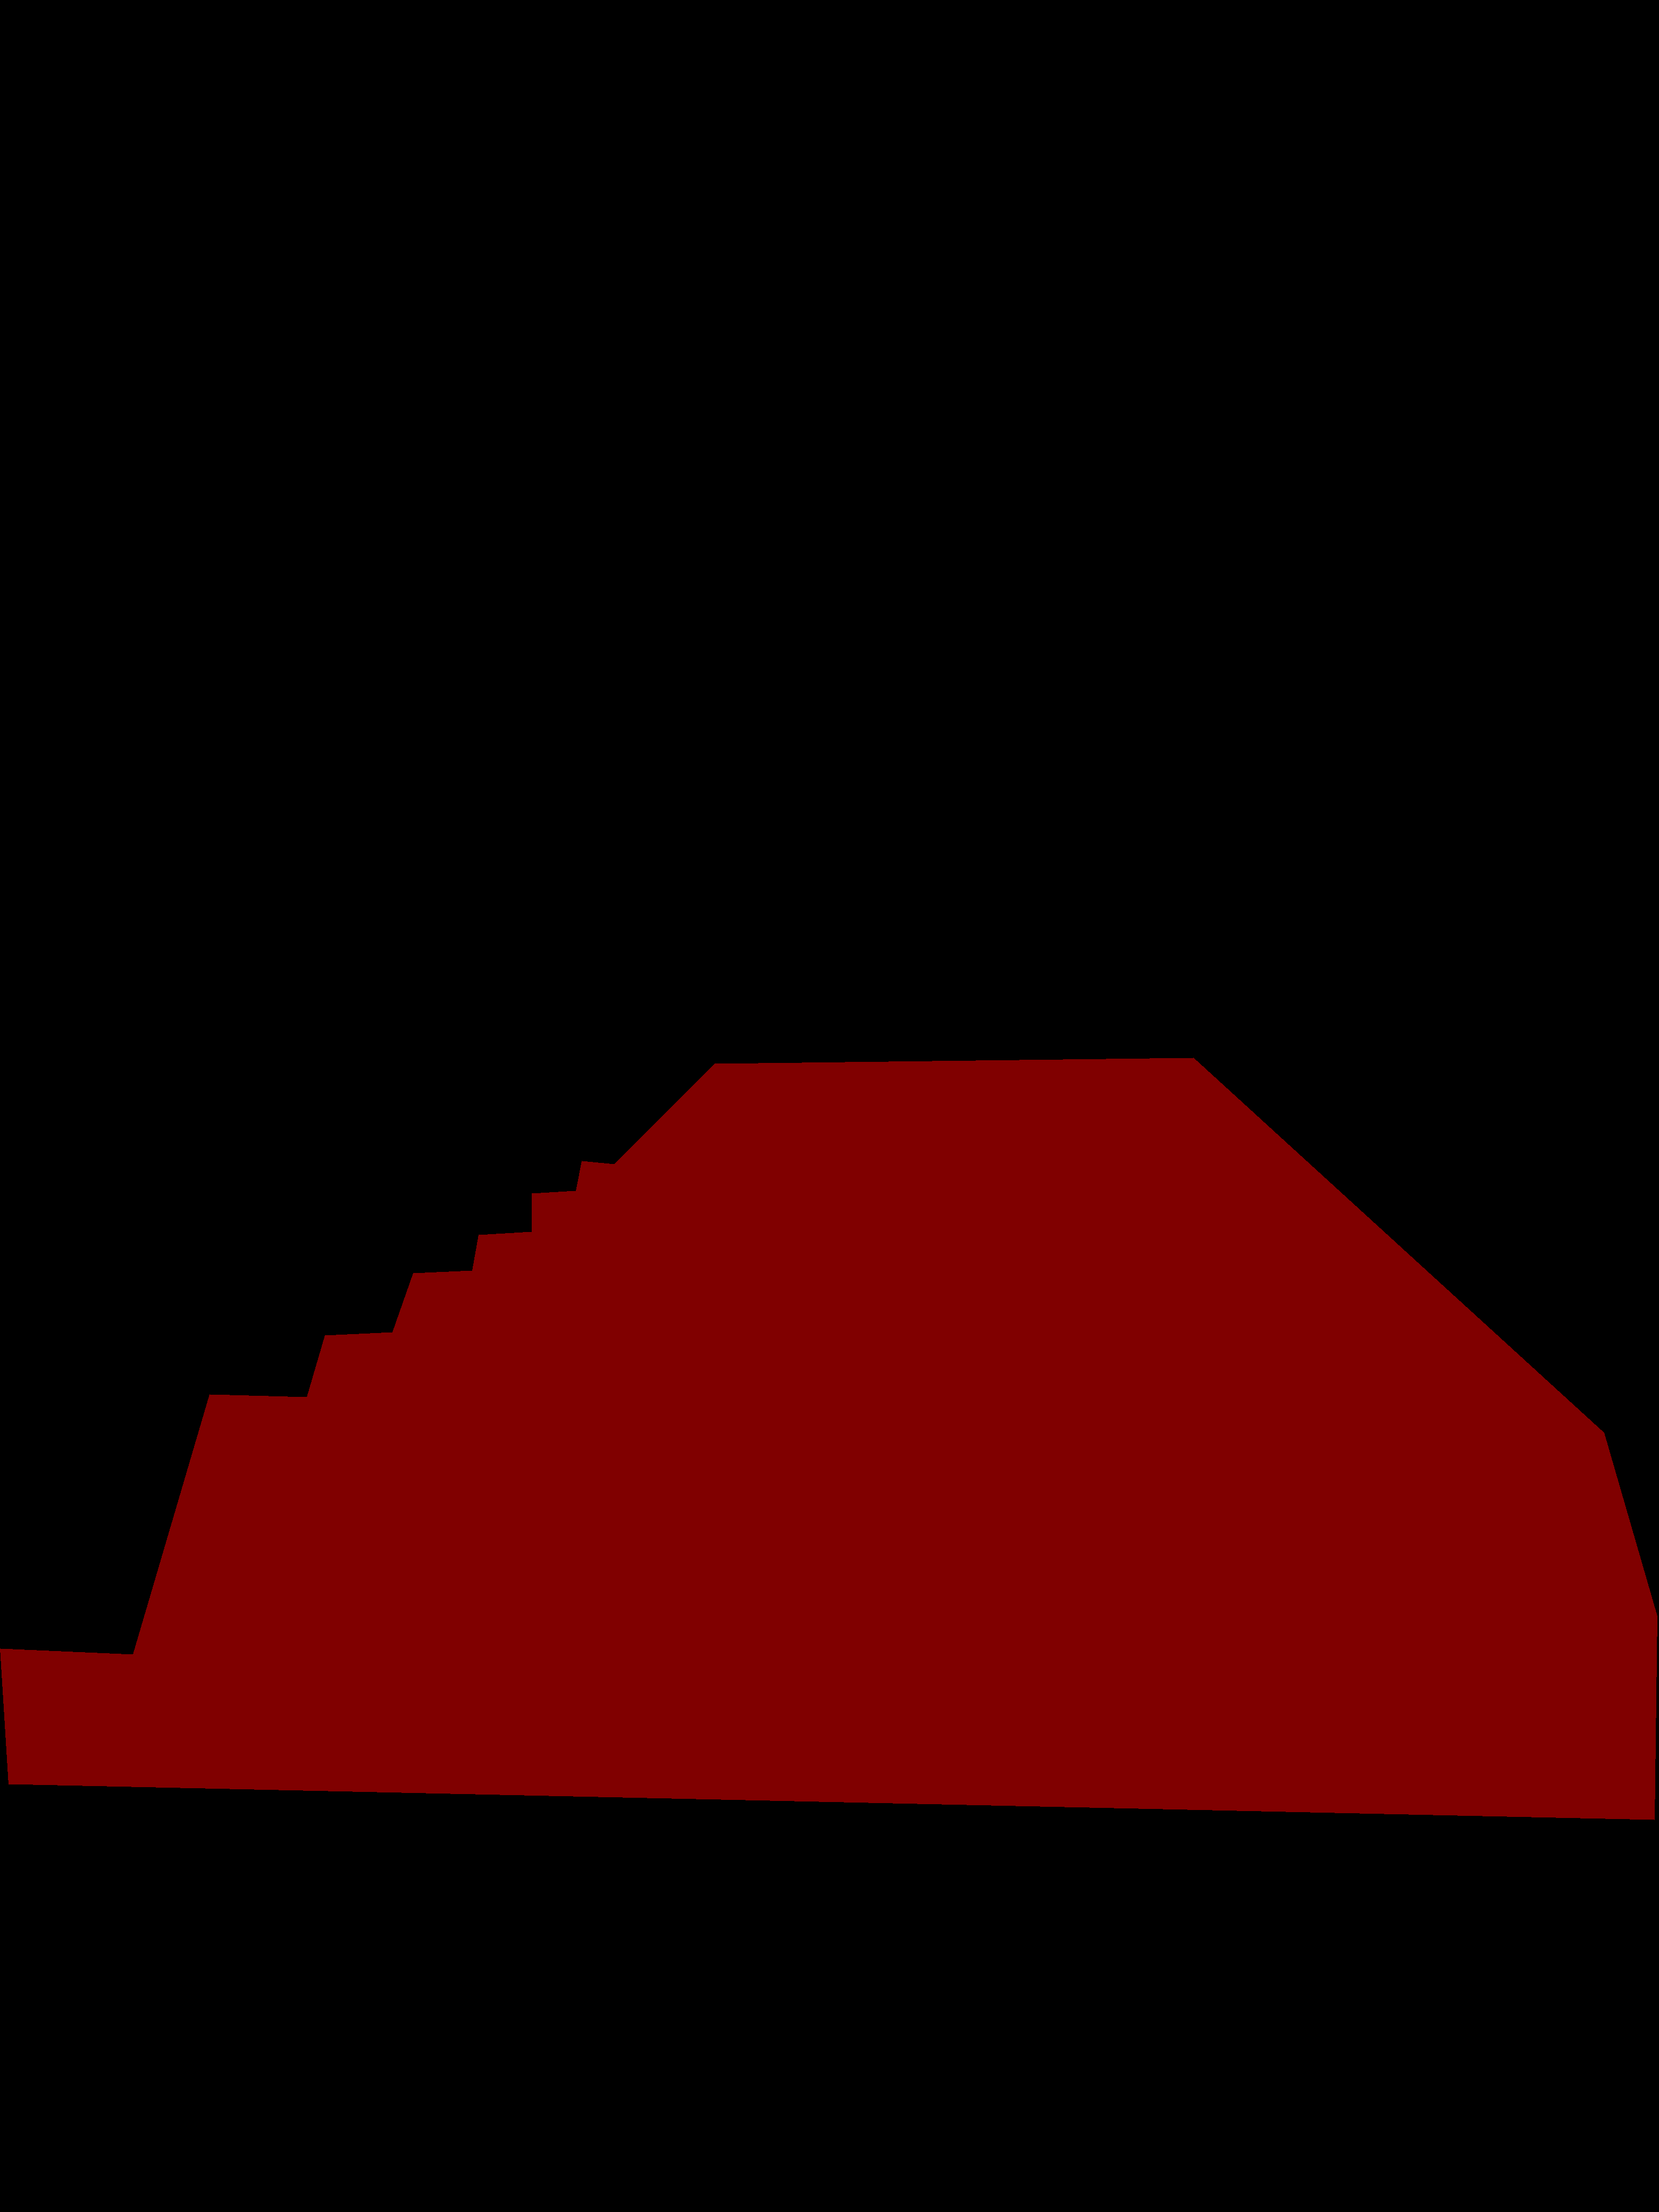stair: (0, 1057, 1657, 1820)
